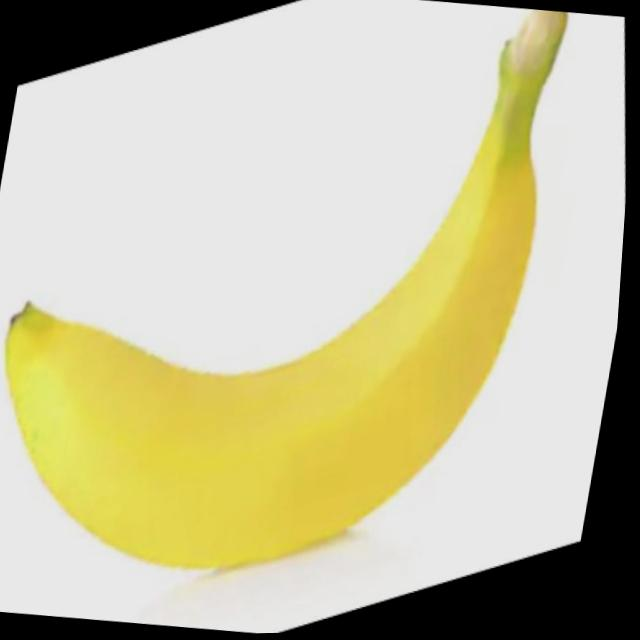Banana: (0, 0, 574, 605)
